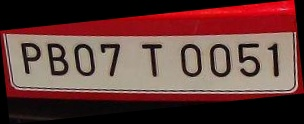character: (45, 41, 69, 77), (236, 42, 260, 78), (179, 42, 202, 77), (73, 42, 96, 76), (19, 40, 41, 75), (99, 42, 121, 77), (140, 42, 162, 77), (209, 43, 231, 77), (267, 41, 280, 77)
